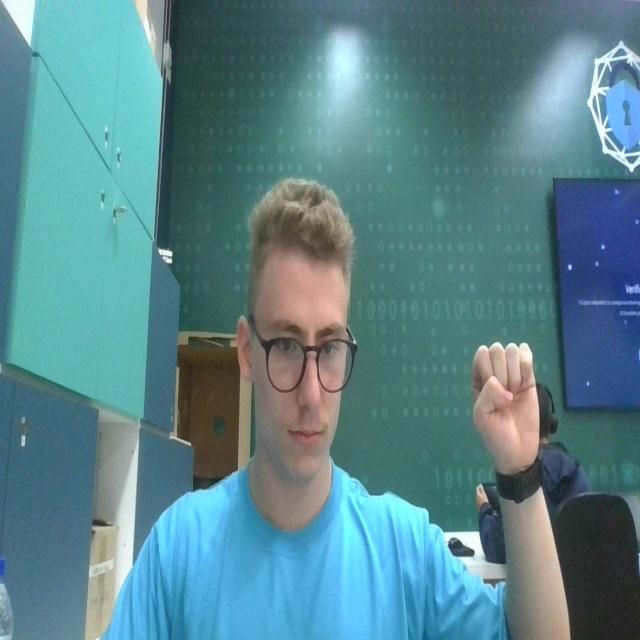S: (466, 327, 544, 471)
